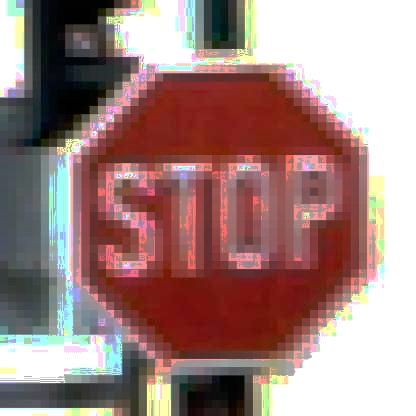Stop Sign: (46, 49, 370, 372)
